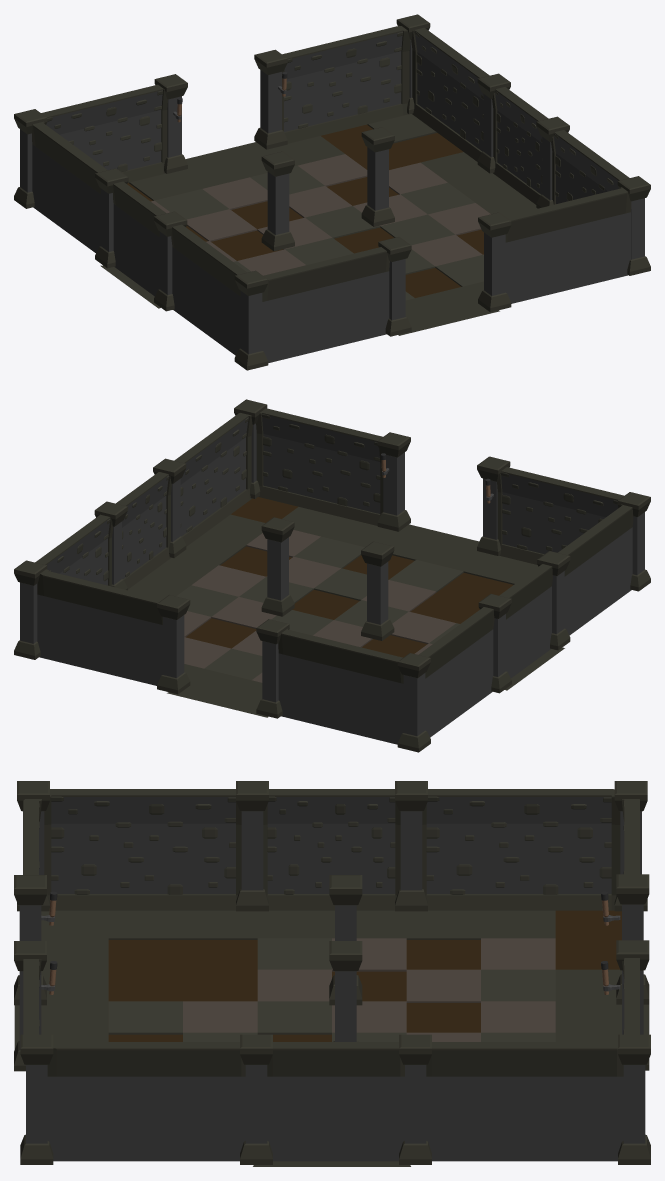
File: Level2Roomlayout2.fbx
3 renders of one model, top to bottom at view 1: azimuth 30°, elevation 25°; view 2: azimuth 150°, elevation 25°; view 3: azimuth 270°, elevation 25°, orthographic. The views are drawn at different scales.
Parts seen in each view (by area): view 1: StonePiller.011, RoomFloor.013; view 2: StonePiller.011, RoomFloor.013; view 3: StonePiller.011, RoomFloor.013.
Part boxes in pixels (<box>): StonePiller.011: <box>14,14,650,370</box>; RoomFloor.013: <box>100,114,537,335</box>; StonePiller.011: <box>14,399,650,752</box>; RoomFloor.013: <box>128,497,564,717</box>; StonePiller.011: <box>14,781,650,1164</box>; RoomFloor.013: <box>14,910,649,1166</box>.
Bounding box in the file's own units: 797 × 168 × 799.
